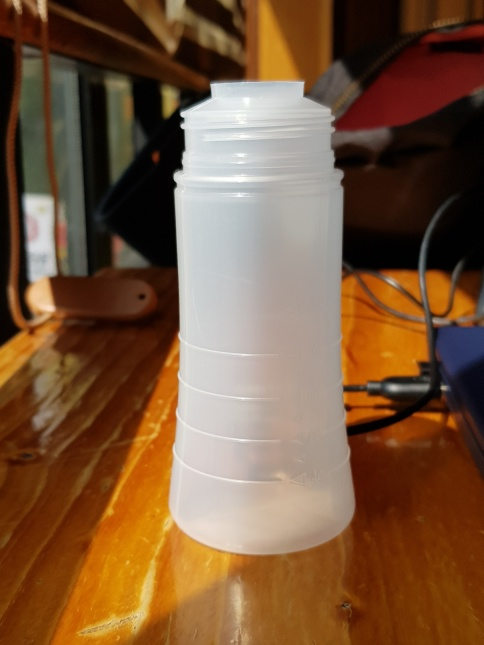Plastic: (164, 73, 359, 561)
